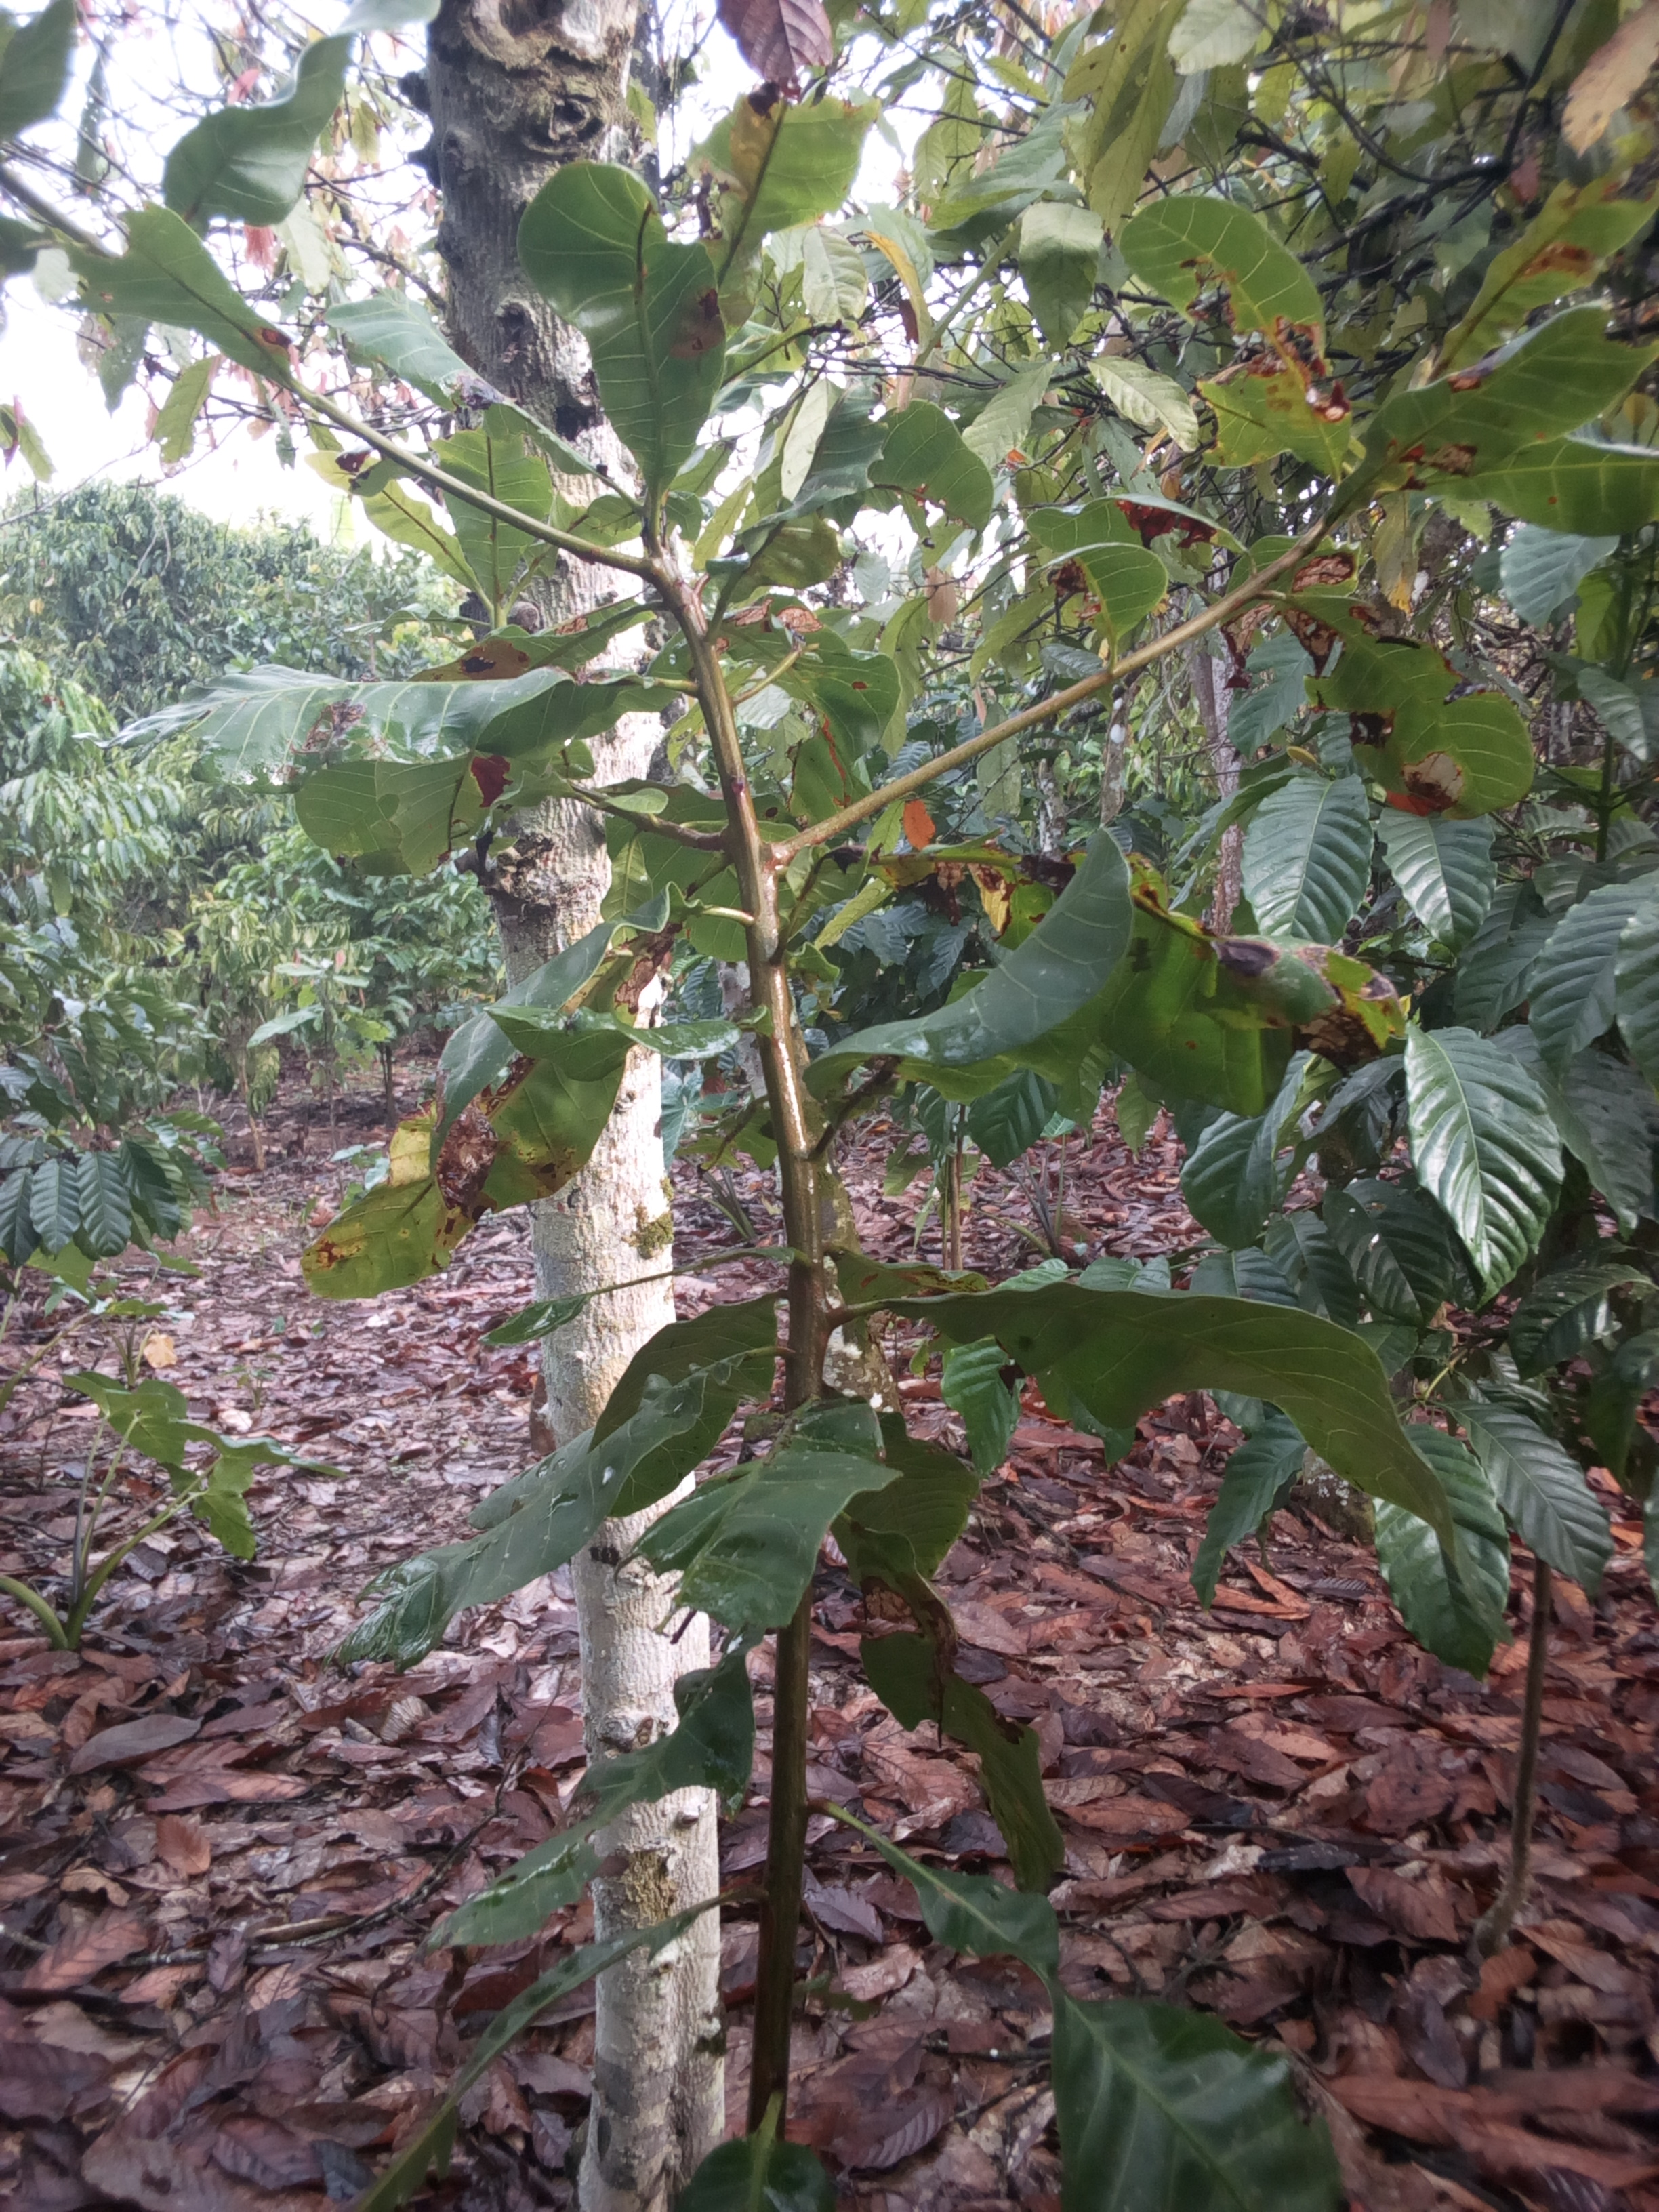Dysdercus wolkerii: (399, 930, 647, 1235)
